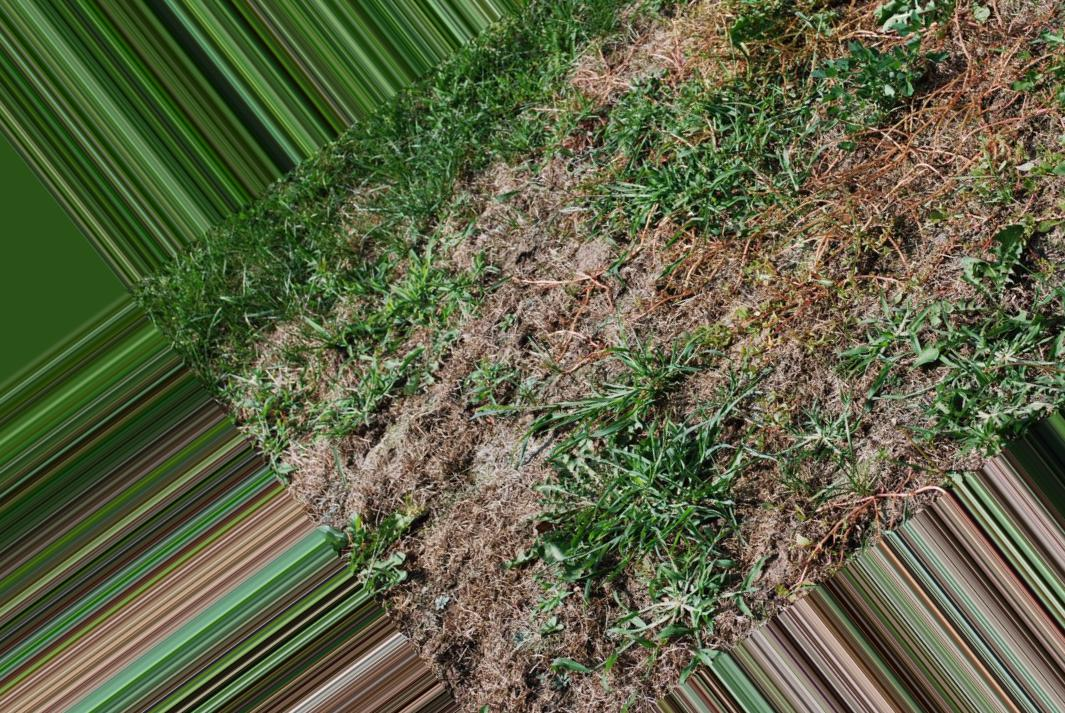patch: (872, 186, 1030, 360), (586, 254, 826, 352), (810, 394, 1016, 504), (430, 498, 562, 652), (408, 276, 550, 404), (474, 188, 566, 256), (588, 66, 668, 108)
